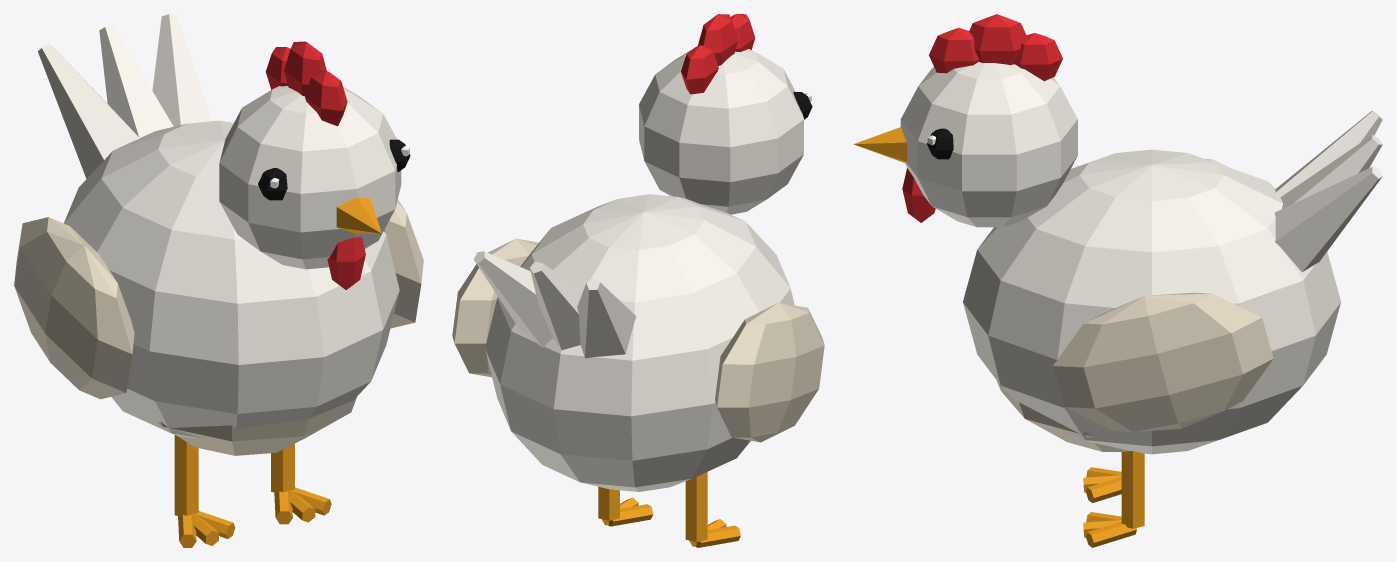
Rendered from chicken.glb.
3 views of the same model, side by side, from view 1: azimuth 30°, elevation 25°; view 2: azimuth 150°, elevation 25°; view 3: azimuth 270°, elevation 25° (orthographic). The views are drawn at different scales.
Parts seen in each view (by area): view 1: Body, Head, WingR, LegR, WingL, LegL; view 2: Body, Head, WingR, WingL, LegR, LegL; view 3: Body, Head, WingL, LegL, LegR.
Part boxes in pixels (x1,y1,x2,y2): Body: [38, 14, 399, 455]; Head: [219, 41, 410, 289]; WingR: [14, 217, 134, 399]; LegR: [174, 435, 235, 547]; WingL: [384, 199, 423, 328]; LegL: [271, 443, 331, 524]; Body: [474, 194, 794, 491]; Head: [639, 14, 812, 214]; WingR: [715, 302, 824, 442]; WingL: [452, 238, 538, 377]; LegR: [685, 472, 740, 547]; LegL: [598, 487, 653, 526]; Body: [963, 110, 1382, 454]; Head: [853, 14, 1077, 227]; WingL: [1053, 292, 1273, 431]; LegL: [1083, 451, 1144, 547]; LegR: [1083, 467, 1121, 502].
Bounding box in the file's own units: 0.9922 × 1.46 × 1.4.
